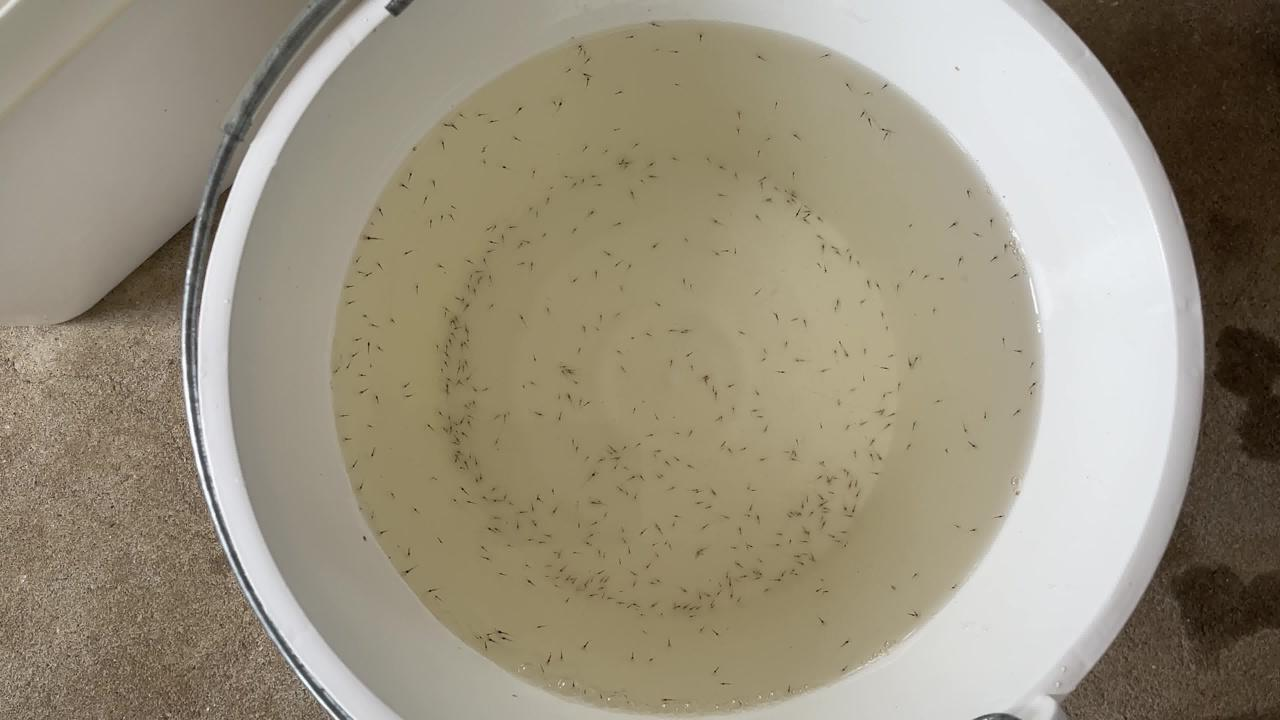shrimp: (953, 257, 966, 265), (1009, 273, 1022, 281), (944, 583, 957, 591), (951, 522, 964, 530), (887, 584, 900, 592), (481, 644, 494, 652), (490, 628, 503, 636), (429, 594, 442, 602), (333, 412, 346, 420), (339, 362, 352, 370), (361, 340, 374, 348), (359, 273, 372, 281), (359, 234, 372, 242), (446, 201, 459, 209), (425, 179, 438, 187), (507, 135, 520, 143), (474, 146, 487, 154), (575, 68, 588, 76), (626, 35, 639, 43), (820, 52, 833, 60), (770, 102, 783, 110), (902, 268, 915, 276), (916, 273, 929, 281), (927, 307, 940, 315), (904, 362, 917, 370), (893, 379, 906, 387), (847, 450, 860, 458), (837, 467, 850, 475), (848, 506, 861, 514), (837, 506, 850, 514), (844, 512, 857, 520), (825, 534, 838, 542), (825, 489, 838, 497), (784, 512, 797, 520), (796, 561, 809, 569), (753, 556, 766, 564), (720, 572, 733, 580), (693, 594, 706, 602), (703, 600, 716, 608), (614, 600, 627, 608), (579, 583, 592, 591), (651, 523, 664, 531), (666, 522, 679, 530), (670, 512, 683, 520), (733, 528, 746, 536), (720, 512, 733, 520), (791, 450, 804, 458), (885, 351, 898, 359), (862, 279, 875, 287), (839, 351, 852, 359), (782, 340, 795, 348), (755, 345, 768, 353), (762, 429, 775, 437), (715, 439, 728, 447), (781, 196, 794, 204), (730, 246, 743, 254), (710, 251, 723, 259), (759, 135, 772, 143), (627, 141, 640, 149), (576, 179, 589, 187), (624, 262, 637, 270), (667, 357, 680, 365), (684, 428, 697, 436), (660, 462, 673, 470), (625, 473, 638, 481), (618, 490, 631, 498), (544, 534, 557, 542), (525, 506, 538, 514), (513, 511, 526, 519), (579, 456, 592, 464), (643, 329, 656, 337), (554, 395, 567, 403), (551, 418, 564, 426), (528, 356, 541, 364), (653, 301, 666, 309), (525, 379, 538, 387), (542, 306, 555, 314), (475, 495, 488, 503), (468, 478, 481, 486), (487, 439, 500, 447), (441, 378, 454, 386), (449, 378, 462, 386), (449, 378, 462, 386), (454, 312, 467, 320), (462, 284, 475, 292), (463, 274, 476, 282), (495, 235, 508, 243), (993, 512, 1005, 520), (966, 528, 978, 536), (578, 644, 590, 652), (401, 395, 413, 403), (434, 212, 446, 220), (439, 140, 451, 148), (484, 118, 496, 126), (645, 19, 657, 27), (811, 473, 823, 481), (794, 512, 806, 520), (789, 573, 801, 581), (777, 572, 789, 580), (772, 578, 784, 586), (623, 606, 635, 614), (744, 545, 756, 553), (706, 489, 718, 497), (755, 456, 767, 464), (800, 318, 812, 326), (789, 212, 801, 220), (722, 246, 734, 254), (644, 162, 656, 170), (567, 179, 579, 187), (611, 467, 623, 475), (628, 406, 640, 414), (467, 401, 479, 409), (462, 357, 474, 365), (506, 224, 518, 232), (822, 589, 834, 597), (998, 242, 1011, 249), (990, 256, 1003, 263), (985, 219, 998, 226), (971, 233, 984, 240), (945, 221, 958, 228), (961, 191, 974, 198), (995, 337, 1008, 344), (1013, 348, 1026, 355), (1027, 382, 1040, 389), (1012, 408, 1025, 415), (977, 415, 990, 422), (959, 427, 972, 434), (967, 445, 980, 452), (908, 572, 921, 579), (913, 611, 926, 618), (816, 618, 829, 625), (839, 639, 852, 646), (781, 692, 794, 699), (715, 682, 728, 689), (656, 697, 669, 704), (710, 630, 723, 637), (662, 642, 675, 649), (624, 657, 637, 664), (638, 629, 651, 636), (539, 658, 552, 665), (485, 637, 498, 644), (479, 632, 492, 639), (494, 637, 507, 644), (530, 624, 543, 631), (399, 569, 412, 576), (402, 551, 415, 558), (431, 536, 444, 543), (370, 532, 383, 539), (410, 507, 423, 514), (363, 517, 376, 524), (386, 493, 399, 500), (355, 485, 368, 492), (338, 436, 351, 443), (362, 423, 375, 430), (354, 389, 367, 396), (368, 395, 381, 402), (399, 382, 412, 389), (355, 373, 368, 380), (328, 367, 341, 374), (375, 345, 388, 352), (348, 336, 361, 343), (363, 322, 376, 329), (341, 301, 354, 308), (339, 284, 352, 291), (351, 269, 364, 276), (372, 261, 385, 268), (348, 259, 361, 266), (409, 284, 422, 291), (431, 262, 444, 269), (400, 250, 413, 257), (372, 207, 385, 214), (423, 219, 436, 226), (445, 212, 458, 219), (395, 182, 408, 189), (403, 172, 416, 179), (437, 122, 450, 129), (443, 122, 456, 129), (471, 112, 484, 119), (497, 165, 510, 172), (479, 158, 492, 165), (452, 113, 465, 120), (552, 104, 565, 111), (546, 100, 559, 107), (579, 76, 592, 83), (564, 67, 577, 74), (582, 57, 595, 64), (575, 48, 588, 55), (671, 49, 684, 56), (693, 32, 706, 39), (616, 88, 629, 95), (752, 53, 765, 60), (840, 84, 853, 91), (881, 83, 894, 90), (855, 112, 868, 119), (862, 118, 875, 125), (879, 132, 892, 139), (786, 132, 799, 139), (732, 111, 745, 118), (732, 128, 745, 135), (787, 170, 800, 177), (888, 282, 901, 289), (934, 399, 947, 406), (908, 423, 921, 430), (901, 446, 914, 453), (884, 391, 897, 398), (875, 412, 888, 419), (884, 412, 897, 419), (880, 424, 893, 431), (857, 422, 870, 429), (839, 426, 852, 433), (866, 438, 879, 445), (865, 453, 878, 460), (841, 473, 854, 480), (843, 480, 856, 487), (853, 491, 866, 498), (868, 471, 881, 478), (831, 540, 844, 547), (836, 530, 849, 537), (816, 459, 829, 466), (822, 476, 835, 483), (822, 476, 835, 483), (810, 493, 823, 500), (812, 500, 825, 507), (819, 505, 832, 512), (818, 508, 831, 515), (814, 516, 827, 523), (816, 522, 829, 529), (796, 504, 809, 511), (804, 511, 817, 518), (802, 529, 815, 536), (800, 539, 813, 546), (806, 559, 819, 566), (790, 553, 803, 560), (784, 575, 797, 582), (761, 588, 774, 595), (770, 542, 783, 549), (755, 572, 768, 579), (751, 570, 764, 577), (729, 561, 742, 568), (737, 572, 750, 579), (723, 582, 736, 589), (723, 592, 736, 599), (732, 599, 745, 606), (714, 583, 727, 590), (712, 590, 725, 597), (691, 608, 704, 615), (684, 607, 697, 614), (677, 606, 690, 613), (668, 606, 681, 613), (691, 550, 704, 557), (647, 603, 660, 610), (678, 587, 691, 594), (602, 596, 615, 603), (594, 586, 607, 593), (602, 580, 615, 587), (595, 580, 608, 587), (593, 572, 606, 579), (569, 579, 582, 586), (558, 597, 571, 604), (554, 568, 567, 575), (521, 577, 534, 584), (482, 556, 495, 563), (476, 545, 489, 552), (653, 577, 666, 584), (623, 570, 636, 577), (640, 564, 653, 571), (649, 555, 662, 562), (634, 530, 647, 537), (665, 544, 678, 551), (726, 545, 739, 552), (752, 513, 765, 520), (739, 513, 752, 520), (742, 507, 755, 514), (699, 505, 712, 512), (691, 499, 704, 506), (691, 486, 704, 493), (666, 484, 679, 491), (786, 449, 799, 456), (785, 455, 798, 462), (739, 485, 752, 492), (747, 486, 760, 493), (815, 424, 828, 431), (833, 399, 846, 406), (845, 387, 858, 394), (855, 376, 868, 383), (882, 367, 895, 374), (879, 323, 892, 330), (876, 310, 889, 317), (873, 280, 886, 287), (859, 347, 872, 354), (814, 370, 827, 377), (789, 359, 802, 366), (791, 314, 804, 321), (768, 313, 781, 320), (776, 372, 789, 379), (756, 354, 769, 361), (733, 328, 746, 335), (749, 389, 762, 396), (745, 408, 758, 415), (752, 414, 765, 421), (737, 449, 750, 456), (722, 447, 735, 454), (725, 382, 738, 389), (711, 394, 724, 401), (708, 390, 721, 397), (821, 269, 834, 276), (809, 262, 822, 269), (825, 245, 838, 252), (831, 253, 844, 260), (815, 215, 828, 222), (800, 221, 813, 228), (802, 214, 815, 221), (757, 172, 770, 179), (754, 184, 767, 191), (789, 191, 802, 198), (749, 211, 762, 218), (762, 198, 775, 205), (712, 192, 725, 199), (753, 289, 766, 296), (706, 218, 719, 225), (730, 173, 743, 180), (715, 164, 728, 171), (665, 154, 678, 161), (643, 174, 656, 181), (701, 155, 714, 162), (620, 160, 633, 167), (615, 160, 628, 167), (609, 128, 622, 135), (587, 173, 600, 180), (556, 174, 569, 181), (594, 179, 607, 186), (636, 178, 649, 185), (646, 244, 659, 251), (612, 220, 625, 227), (584, 208, 597, 215), (603, 251, 616, 258), (607, 260, 620, 267), (683, 282, 696, 289), (678, 329, 691, 336), (683, 467, 696, 474), (669, 456, 682, 463), (657, 473, 670, 480), (654, 474, 667, 481), (653, 449, 666, 456), (643, 433, 656, 440), (649, 414, 662, 421), (631, 442, 644, 449), (634, 476, 647, 483), (629, 496, 642, 503), (610, 447, 623, 454), (605, 453, 618, 460), (609, 455, 622, 462), (618, 466, 631, 473), (588, 474, 601, 481), (585, 499, 598, 506), (588, 498, 601, 505), (601, 511, 614, 518), (586, 520, 599, 527), (614, 525, 627, 532), (645, 541, 658, 548), (617, 538, 630, 545), (623, 547, 636, 554), (613, 563, 626, 570), (599, 556, 612, 563), (591, 552, 604, 559), (581, 542, 594, 549), (552, 553, 565, 560), (549, 583, 562, 590), (534, 541, 547, 548), (522, 538, 535, 545), (546, 510, 559, 517), (530, 496, 543, 503), (530, 496, 543, 503), (529, 524, 542, 531), (483, 528, 496, 535), (565, 441, 578, 448), (595, 457, 608, 464), (616, 364, 629, 371), (618, 288, 631, 295), (590, 268, 603, 275), (577, 324, 590, 331), (570, 347, 583, 354), (553, 363, 566, 370), (566, 367, 579, 374), (557, 371, 570, 378), (562, 395, 575, 402), (530, 408, 543, 415), (514, 320, 527, 327), (526, 262, 539, 269), (515, 261, 528, 268), (513, 241, 526, 248), (536, 233, 549, 240), (570, 226, 583, 233), (542, 197, 555, 204), (531, 211, 544, 218), (521, 204, 534, 211), (526, 169, 539, 176), (578, 145, 591, 152), (603, 150, 616, 157), (863, 90, 876, 97), (828, 349, 841, 356), (678, 237, 691, 244), (611, 313, 624, 320), (566, 278, 579, 285), (517, 383, 530, 390), (547, 486, 560, 493), (456, 486, 469, 493), (461, 498, 474, 505), (488, 499, 501, 506), (482, 487, 495, 494), (473, 478, 486, 485), (472, 458, 485, 465), (461, 458, 474, 465), (455, 468, 468, 475), (448, 461, 461, 468), (451, 448, 464, 455), (498, 415, 511, 422), (459, 432, 472, 439), (435, 428, 448, 435), (453, 419, 466, 426), (461, 421, 474, 428), (463, 414, 476, 421), (443, 427, 456, 434), (426, 425, 439, 432), (458, 405, 471, 412), (477, 388, 490, 395), (470, 388, 483, 395), (442, 415, 455, 422), (441, 390, 454, 397), (441, 383, 454, 390), (460, 378, 473, 385), (457, 369, 470, 376), (432, 369, 445, 376), (438, 360, 451, 367), (430, 343, 443, 350), (441, 344, 454, 351), (445, 337, 458, 344), (455, 344, 468, 351), (458, 344, 471, 351), (461, 335, 474, 342), (462, 327, 475, 334), (447, 323, 460, 330), (437, 303, 450, 310), (437, 314, 450, 321), (463, 305, 476, 312), (455, 295, 468, 302), (485, 303, 498, 310), (468, 290, 481, 297), (470, 269, 483, 276), (486, 276, 499, 283), (461, 258, 474, 265), (481, 249, 494, 256), (487, 225, 500, 232), (482, 226, 495, 233), (810, 587, 823, 594), (60, 223, 73, 230), (1027, 362, 1039, 369), (911, 611, 923, 618), (838, 665, 850, 672), (706, 669, 718, 676), (694, 627, 706, 634), (644, 657, 656, 664), (556, 657, 568, 664), (423, 589, 435, 596), (428, 475, 440, 482), (367, 452, 379, 459), (346, 464, 358, 471), (346, 353, 358, 360), (356, 311, 368, 318), (384, 318, 396, 325), (418, 195, 430, 202), (511, 104, 523, 111), (578, 49, 590, 56), (572, 43, 584, 50), (877, 128, 889, 135), (750, 149, 762, 156), (910, 353, 922, 360), (877, 394, 889, 401), (872, 407, 884, 414), (872, 455, 884, 462), (849, 480, 861, 487), (839, 545, 851, 552), (800, 498, 812, 505), (788, 567, 800, 574), (772, 531, 784, 538), (783, 538, 795, 545), (750, 575, 762, 582), (705, 606, 717, 613), (694, 550, 706, 557), (633, 602, 645, 609), (584, 593, 596, 600), (567, 578, 579, 585), (562, 578, 574, 585), (495, 570, 507, 577), (645, 579, 657, 586), (628, 582, 640, 589), (695, 527, 707, 534), (789, 436, 801, 443), (855, 299, 867, 306), (833, 300, 845, 307), (716, 416, 728, 423), (728, 403, 740, 410), (678, 352, 690, 359), (700, 375, 712, 382), (816, 245, 828, 252), (811, 230, 823, 237), (839, 247, 851, 254), (844, 259, 856, 266), (778, 190, 790, 197), (788, 195, 800, 202), (623, 190, 635, 197), (678, 278, 690, 285), (584, 532, 596, 539), (567, 551, 579, 558), (512, 525, 524, 532), (490, 530, 502, 537), (489, 518, 501, 525), (572, 450, 584, 457), (583, 400, 595, 407), (611, 351, 623, 358), (595, 316, 607, 323), (523, 240, 535, 247), (501, 493, 513, 500), (451, 454, 463, 461), (489, 415, 501, 422), (451, 437, 463, 444), (434, 412, 446, 419), (451, 369, 463, 376), (462, 324, 474, 331), (473, 275, 485, 282), (478, 259, 490, 266), (484, 240, 496, 247)
